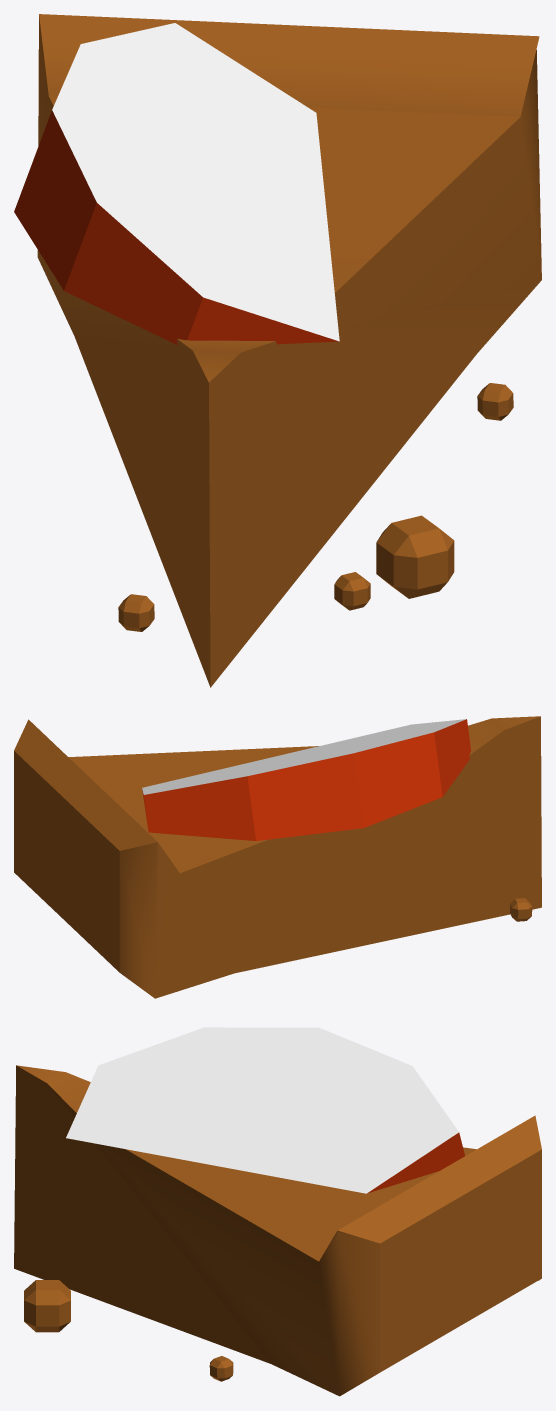
Rendered from food_applepie_fulleaten.fbx.
The picture shows the model from 3 angles, top to bottom: view 1: azimuth 30°, elevation 25°; view 2: azimuth 150°, elevation 25°; view 3: azimuth 270°, elevation 25°; orthographic projection. The views are drawn at different scales.
Parts seen in each view (by area): view 1: armystuff:footsoldier:armystuff:footsoldier:armystuff:footso; view 2: armystuff:footsoldier:armystuff:footsoldier:armystuff:footso; view 3: armystuff:footsoldier:armystuff:footsoldier:armystuff:footso.
Part boxes in pixels (bbox=[...]): armystuff:footsoldier:armystuff:footsoldier:armystuff:footso: bbox=[14, 14, 541, 687]; armystuff:footsoldier:armystuff:footsoldier:armystuff:footso: bbox=[14, 716, 541, 998]; armystuff:footsoldier:armystuff:footsoldier:armystuff:footso: bbox=[14, 1027, 541, 1396].
Bounding box in the file's own units: 53.66 × 33.1 × 60.05.
Materials: 1 (1 with a texture image).
